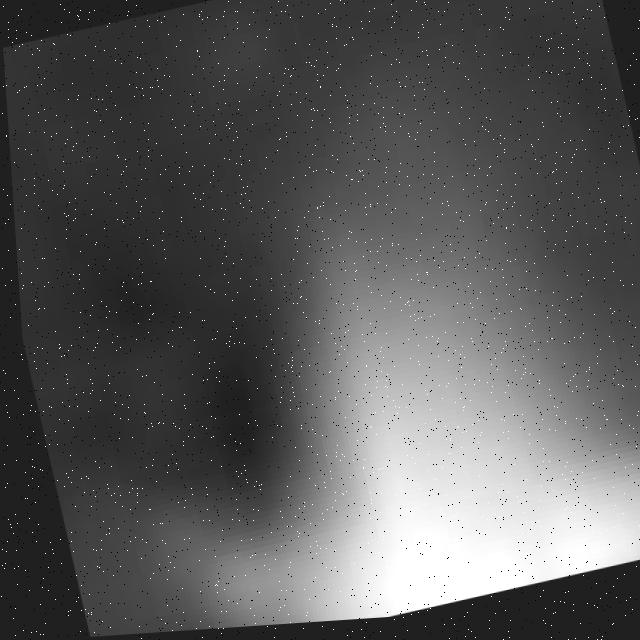person: (227, 147, 602, 630)
